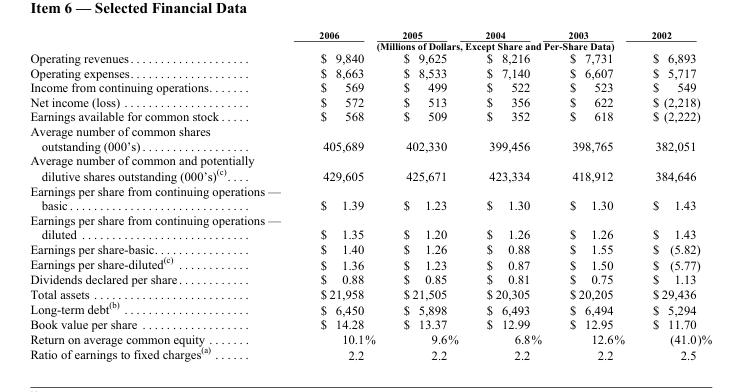table: (29, 29, 711, 361)
table column: (29, 29, 299, 361), (299, 29, 388, 361), (388, 29, 471, 361), (471, 29, 554, 361), (554, 29, 637, 361), (637, 29, 711, 361)
table column header: (29, 29, 711, 51)
table row: (29, 152, 711, 183), (29, 123, 711, 152), (29, 183, 711, 212), (29, 212, 711, 241), (29, 254, 711, 271), (29, 299, 711, 316), (29, 344, 711, 361), (29, 79, 711, 94), (29, 108, 711, 123), (29, 271, 711, 286), (29, 316, 711, 331), (29, 51, 711, 65), (29, 65, 711, 79), (29, 94, 711, 108), (29, 241, 711, 254), (29, 286, 711, 299), (29, 331, 711, 344), (29, 29, 711, 40), (29, 40, 711, 51)
table spanning cell: (299, 40, 711, 51)
